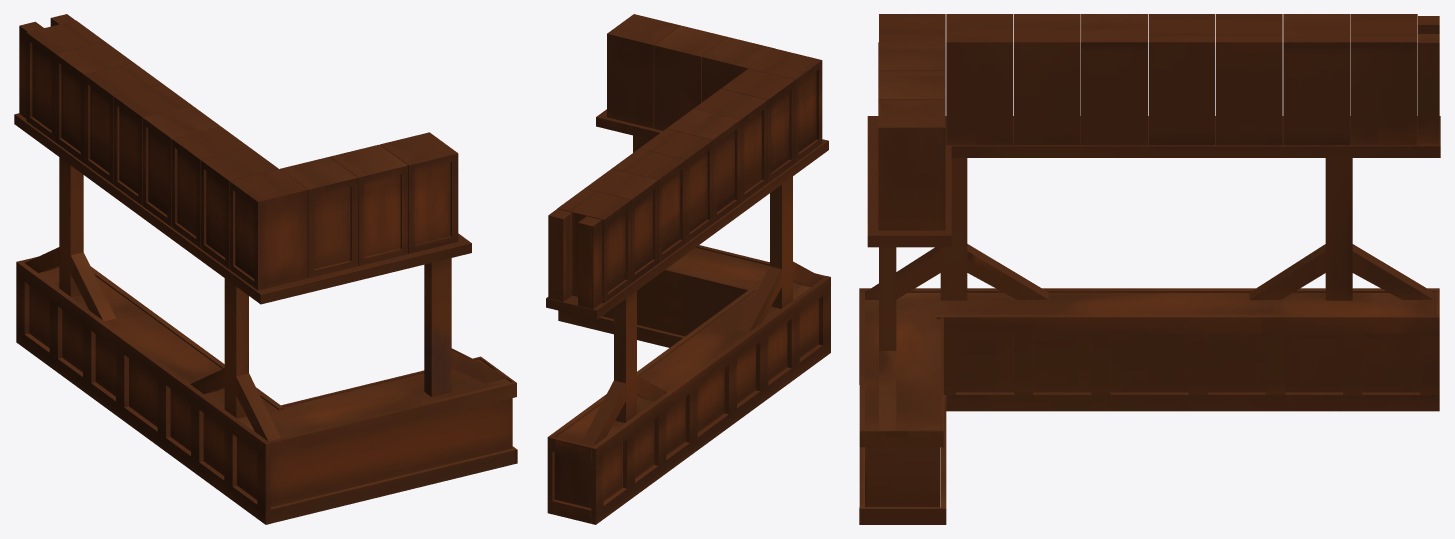
The model's file is bar_mod.fbx.
3 renders of one model, left to right at view 1: azimuth 30°, elevation 25°; view 2: azimuth 150°, elevation 25°; view 3: azimuth 270°, elevation 25°, orthographic. The views are drawn at different scales.
Visible parts, largest first — view 1: опоры; view 2: опоры; view 3: опоры.
Part boxes in pixels (x1=…): опоры: x1=14, y1=14, x2=517, y2=524; опоры: x1=546, y1=14, x2=830, y2=524; опоры: x1=859, y1=14, x2=1440, y2=524.
Size of the model in its own units: 1018 by 1217 by 1740.
Materials: 1 (1 with a texture image).
